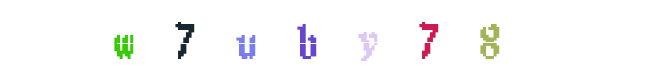7: (144, 0, 224, 80), (388, 0, 468, 80)
8: (400, 0, 480, 80)
B: (288, 0, 368, 80)
U: (241, 0, 321, 80)
W: (84, 0, 164, 80)
Y: (304, 0, 384, 80)
